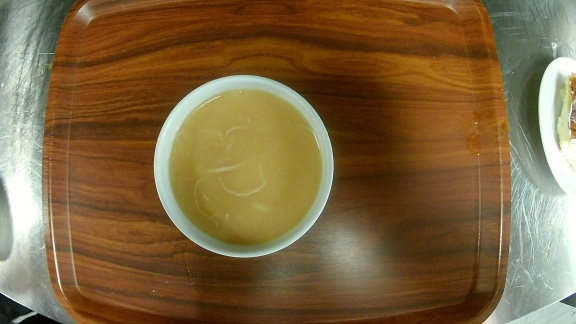tavukcorba: (153, 74, 337, 262)
